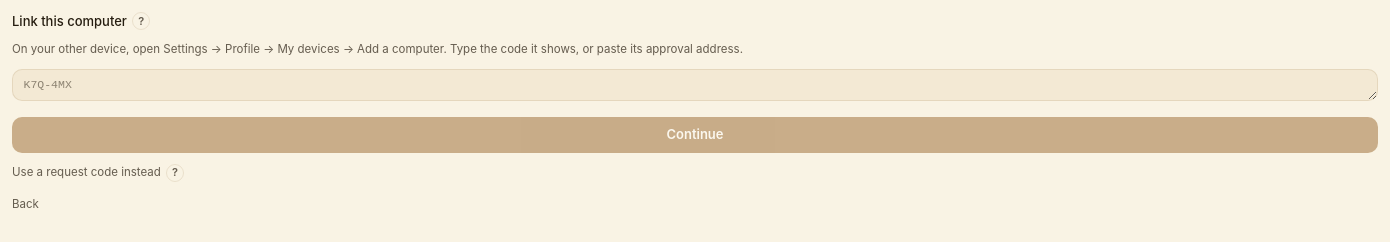
Test case: LinkThisDevice, several workspaces › shows no list for one workspace (an older approving device)
The image size is (1390, 242).
Type "ligusaddr1:abc" into the text box named "The code or approval address from your other device" at [695, 85], box top-left (12, 68), bottom-right (1378, 101)
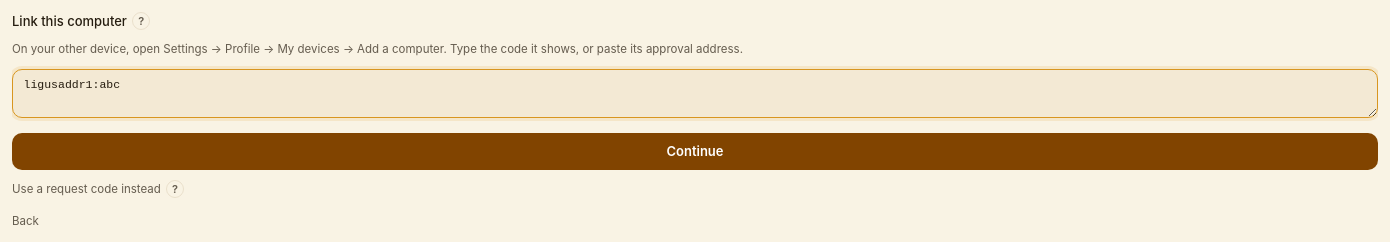
Click the button "Continue" at [695, 152], box top-left (12, 133), bottom-right (1378, 170)
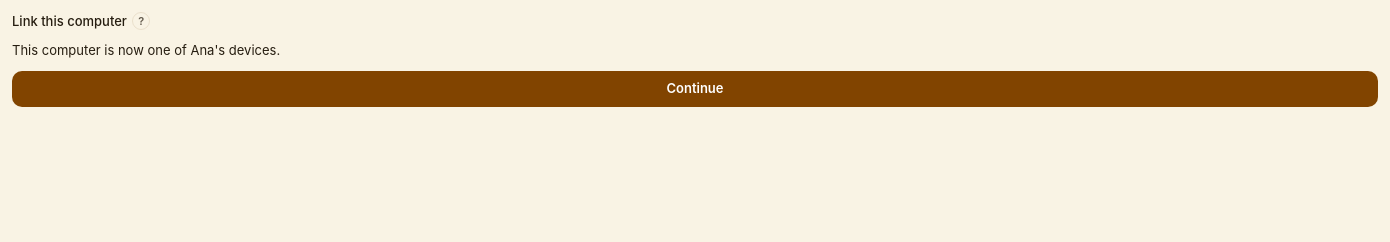
expect the text with test id "link-linked" reads "This computer is now one of Ana's devices.": met, box top-left (12, 42), bottom-right (280, 58)
